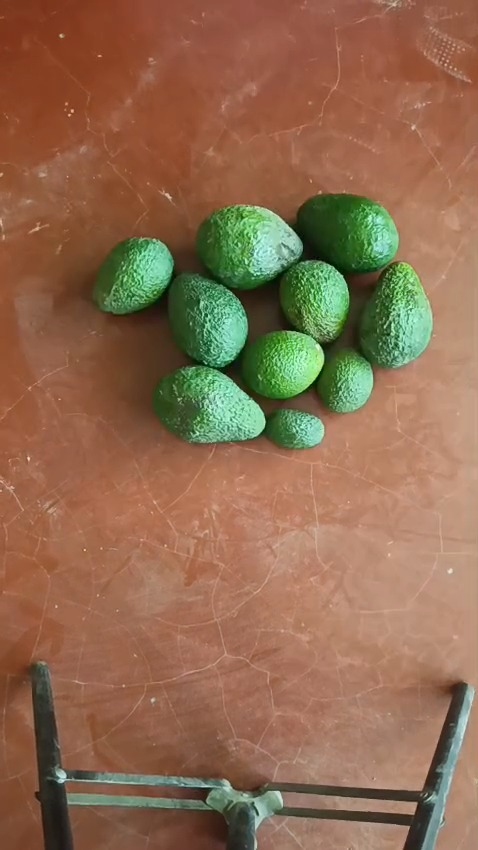Primera: (196, 205, 303, 291), (152, 365, 265, 442), (296, 193, 398, 274), (358, 261, 433, 368), (167, 271, 249, 366)
Segunda: (92, 237, 174, 315), (278, 259, 351, 343), (240, 330, 323, 399)
Tercera: (315, 347, 373, 413), (263, 408, 324, 450)
